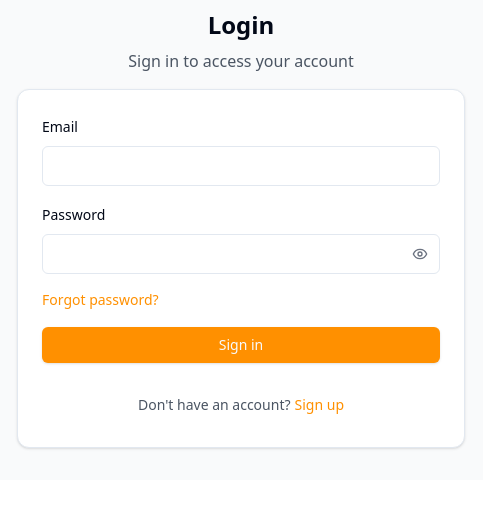
Login Page › shows error on invalid credentials
In the field with id "email": (241,166) [42,146,440,186], type "test@school.com"
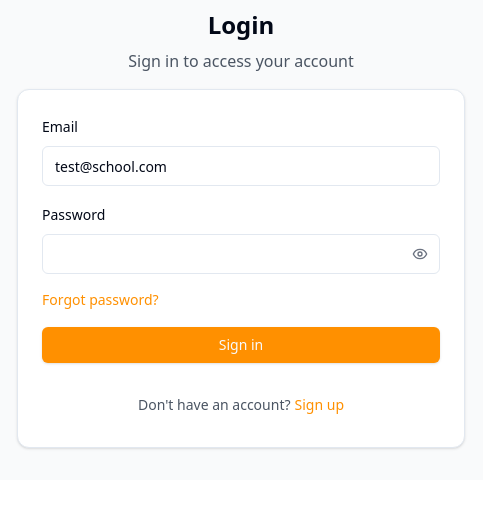
In the password field labelled "Password": (241,254) [42,234,440,274], type "password123"
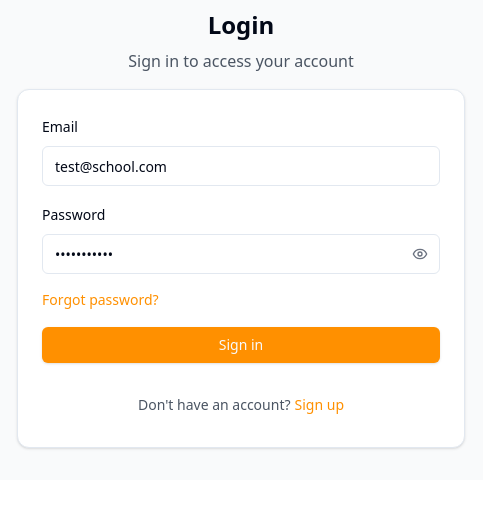
Click the button with id "sign-in-btn": (241,345) [42,327,440,363]
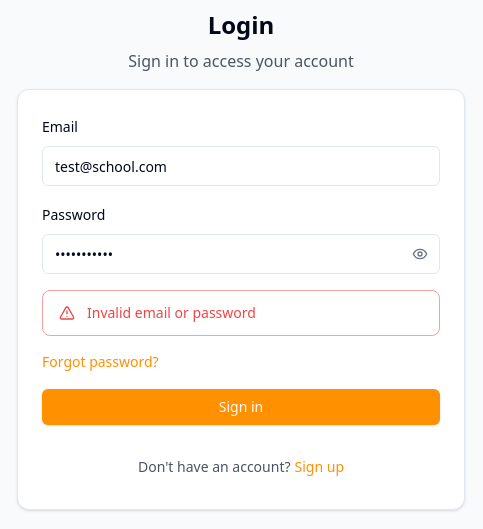
expect the text with id "login-error-message" reads "Invalid email or password": met, box [87,303,256,322]
